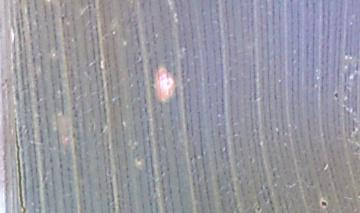tarspot: (318, 199, 330, 209), (332, 89, 341, 100)
